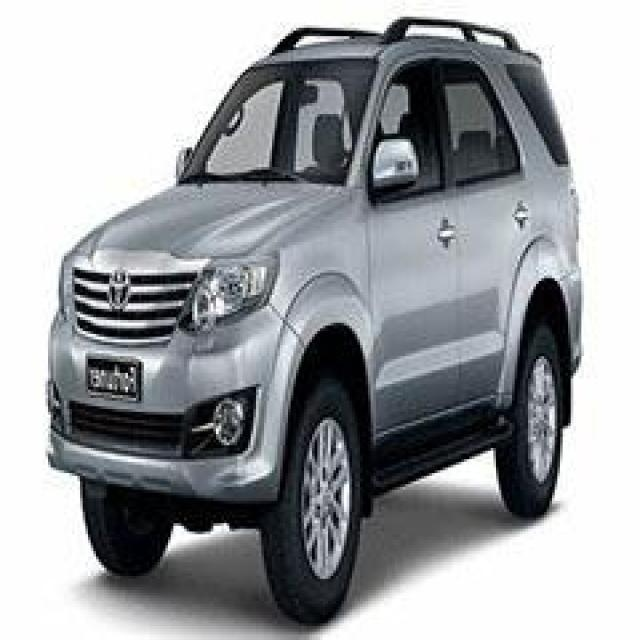car: (28, 6, 607, 626)
